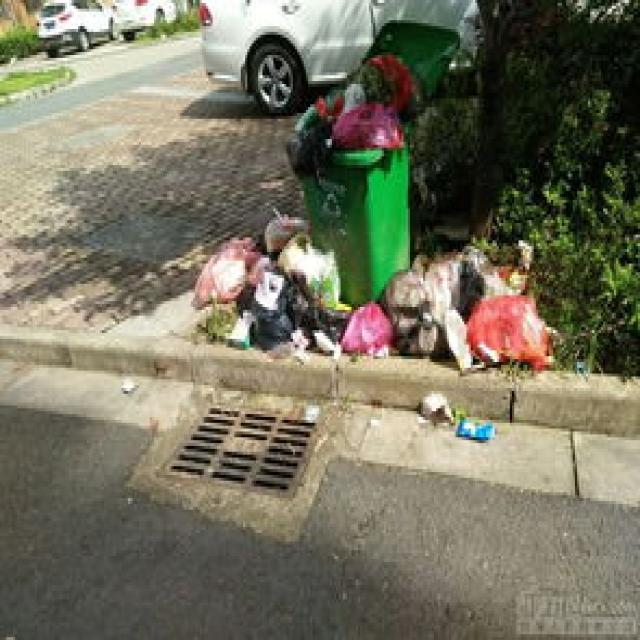garbage: (191, 202, 551, 370), (418, 388, 492, 440)
overflow: (284, 52, 408, 301)
